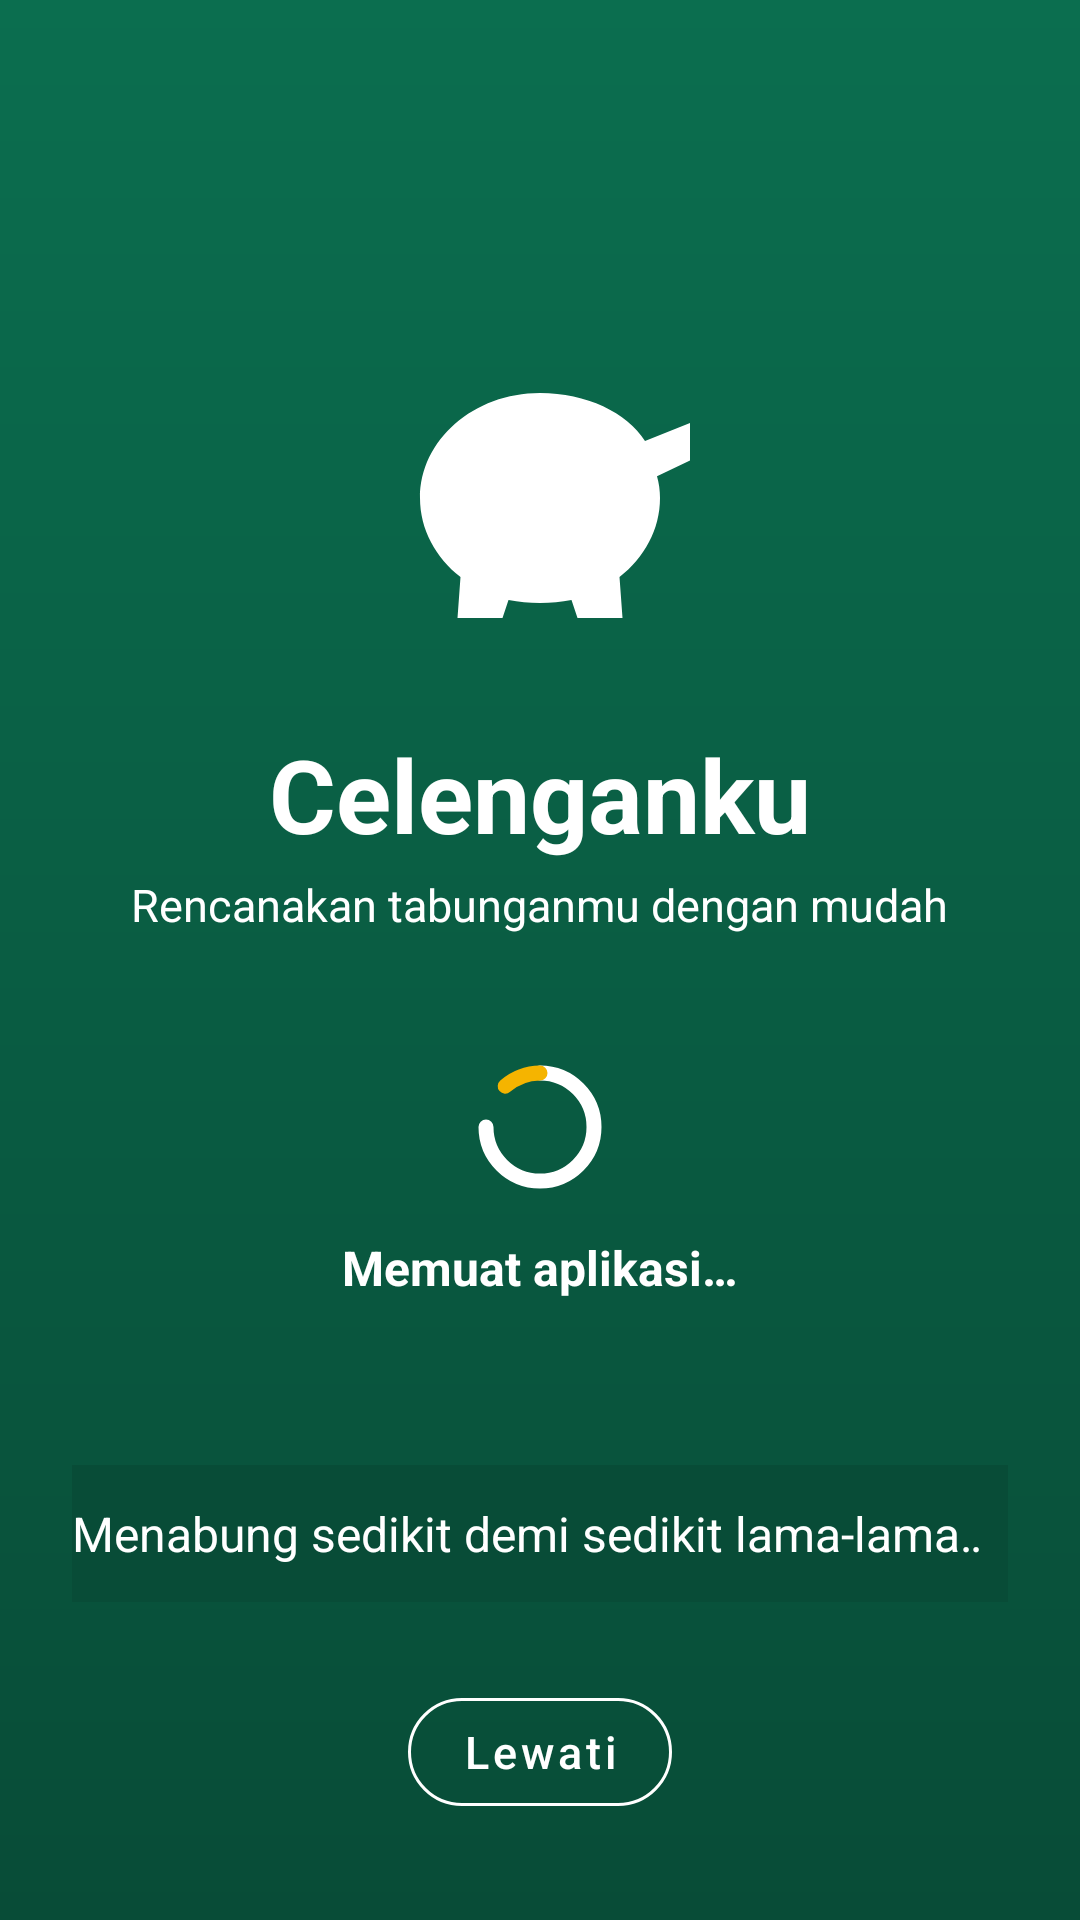

Screen size 1080px x 1920px. Icon name, then its box in pixels as region(x1, y1, x2, y2):
piggy: region(420, 393, 690, 618)
